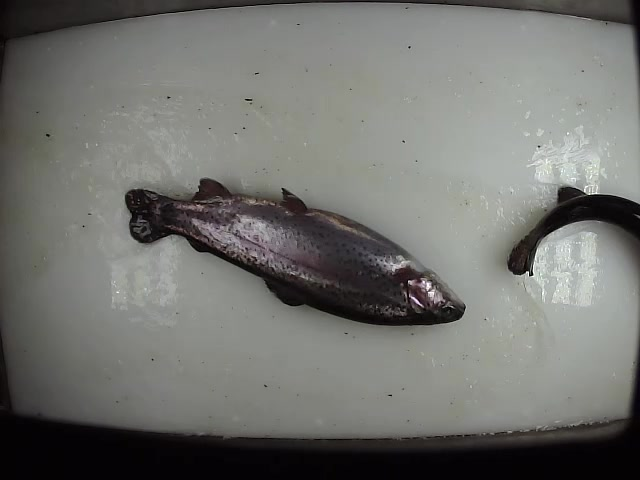fish: (123, 176, 468, 327), (505, 183, 640, 277)
